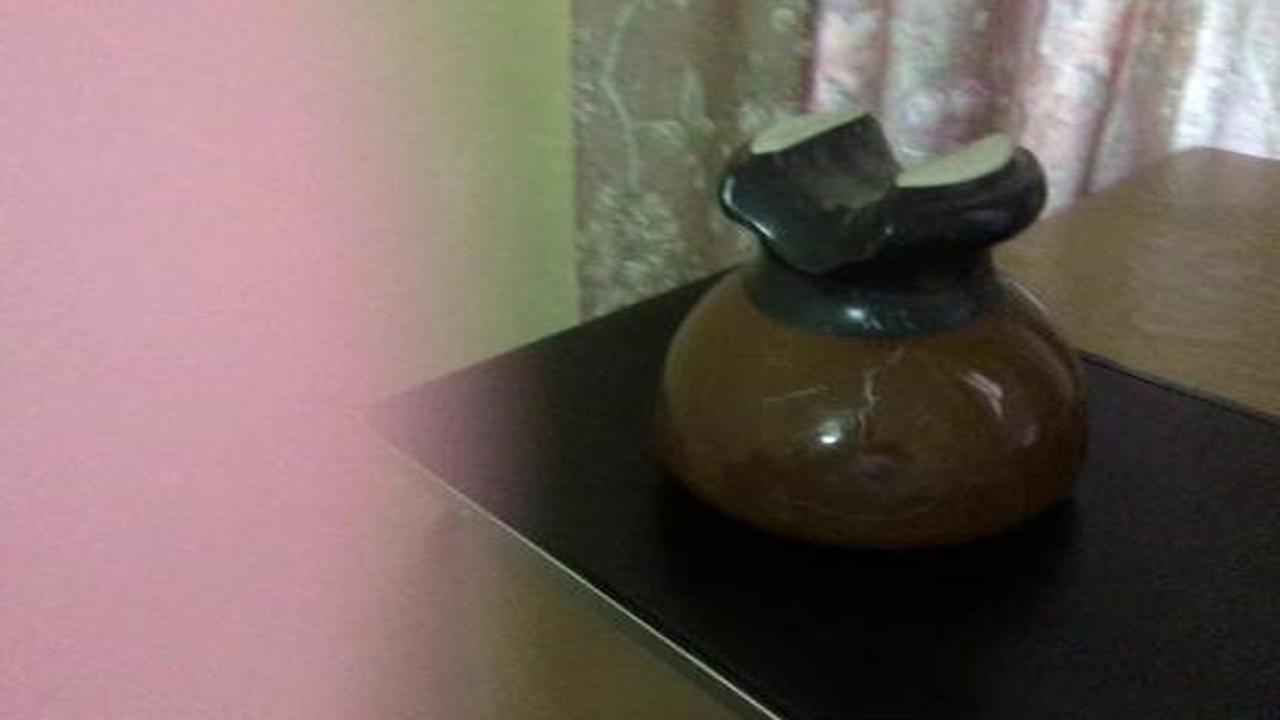insulator_pin: (647, 104, 1127, 554)
